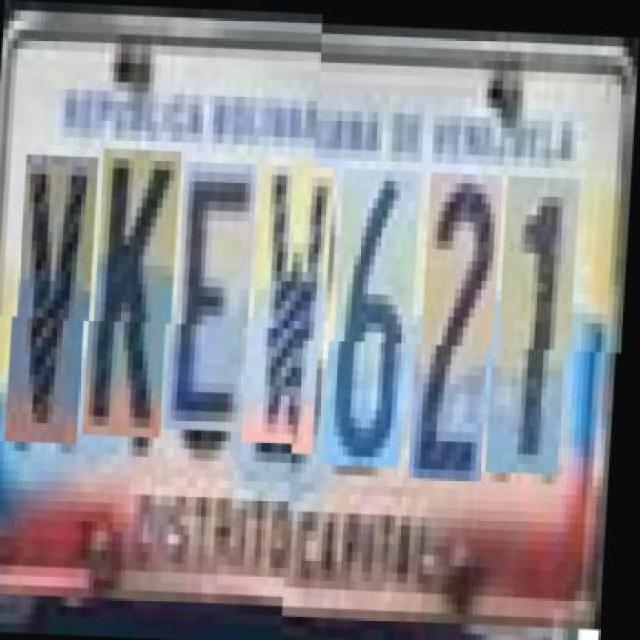1: (497, 172, 581, 470)
2: (420, 169, 506, 476)
6: (332, 164, 423, 464)
e: (174, 168, 258, 440)
k: (91, 157, 182, 446)
v: (15, 163, 100, 452)
w: (251, 162, 335, 450)
